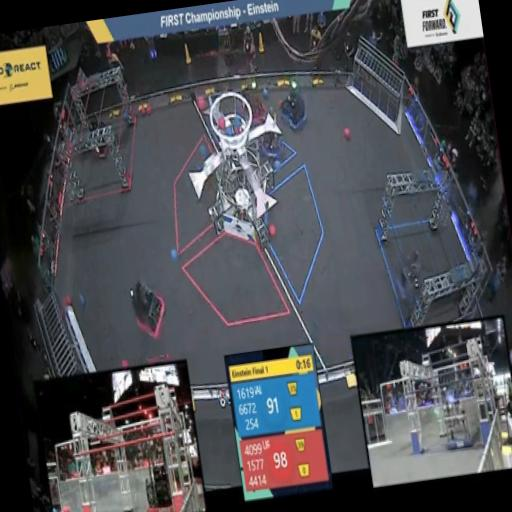robot: (126, 265, 174, 345), (388, 248, 430, 312), (273, 71, 311, 136), (253, 100, 287, 168), (82, 103, 114, 167)
